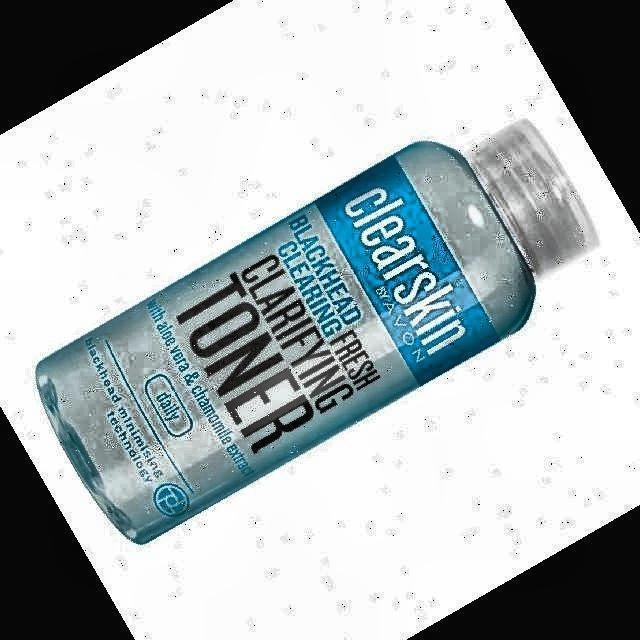plastic: (36, 119, 598, 544)
